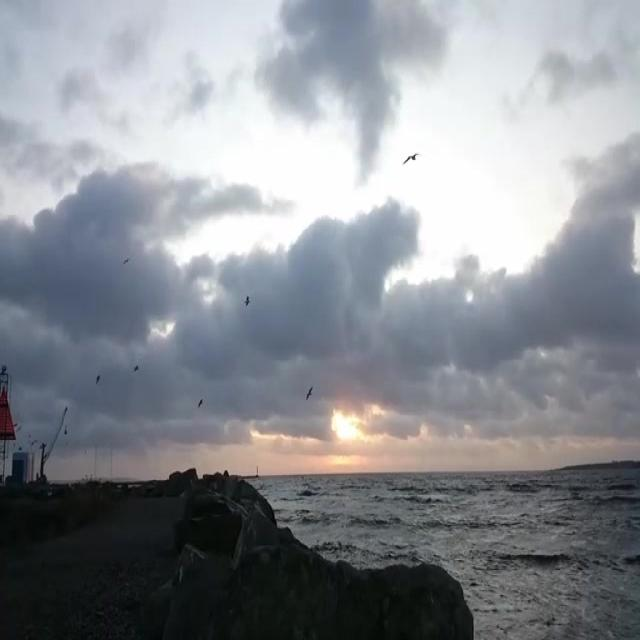bird: (401, 145, 422, 173), (301, 381, 316, 406), (238, 292, 256, 310), (114, 255, 130, 271), (195, 396, 207, 412), (93, 373, 105, 388), (130, 359, 142, 371)
